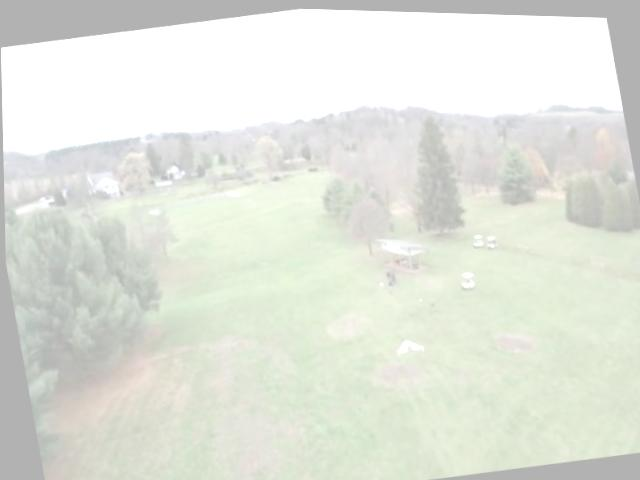flying wing: (393, 335, 423, 357)
